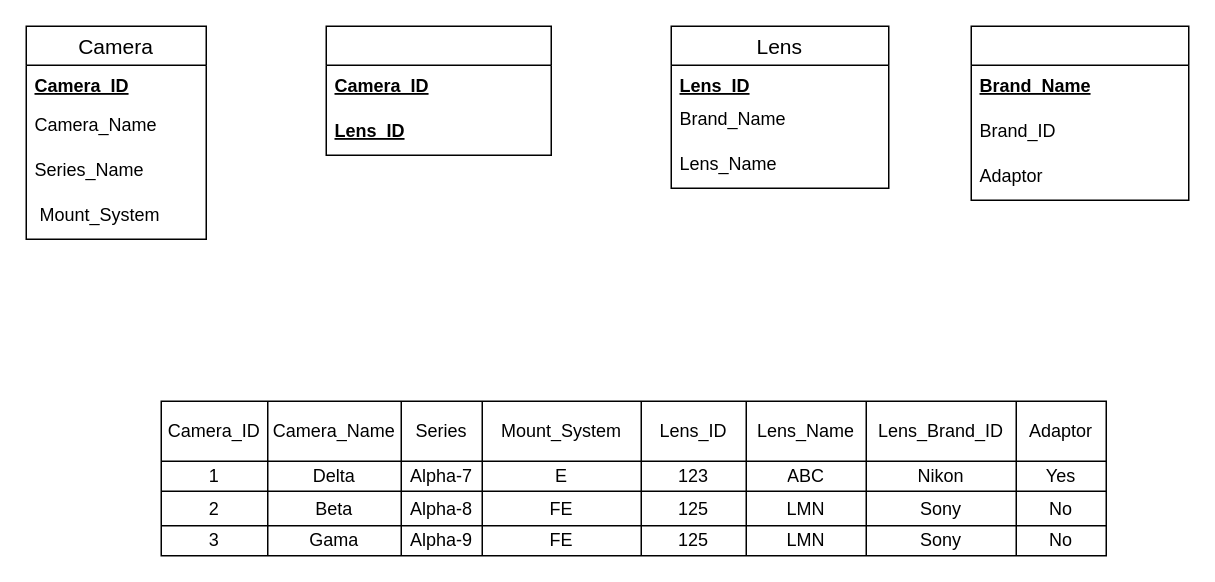
The diagram is 1215 pixels wide and 582 high, and some of its shapes have lost their labels. Each missing label, with the box of its shape:
Camera_Lens: (325, 25, 551, 155)
Lens Brand: (970, 25, 1189, 200)
